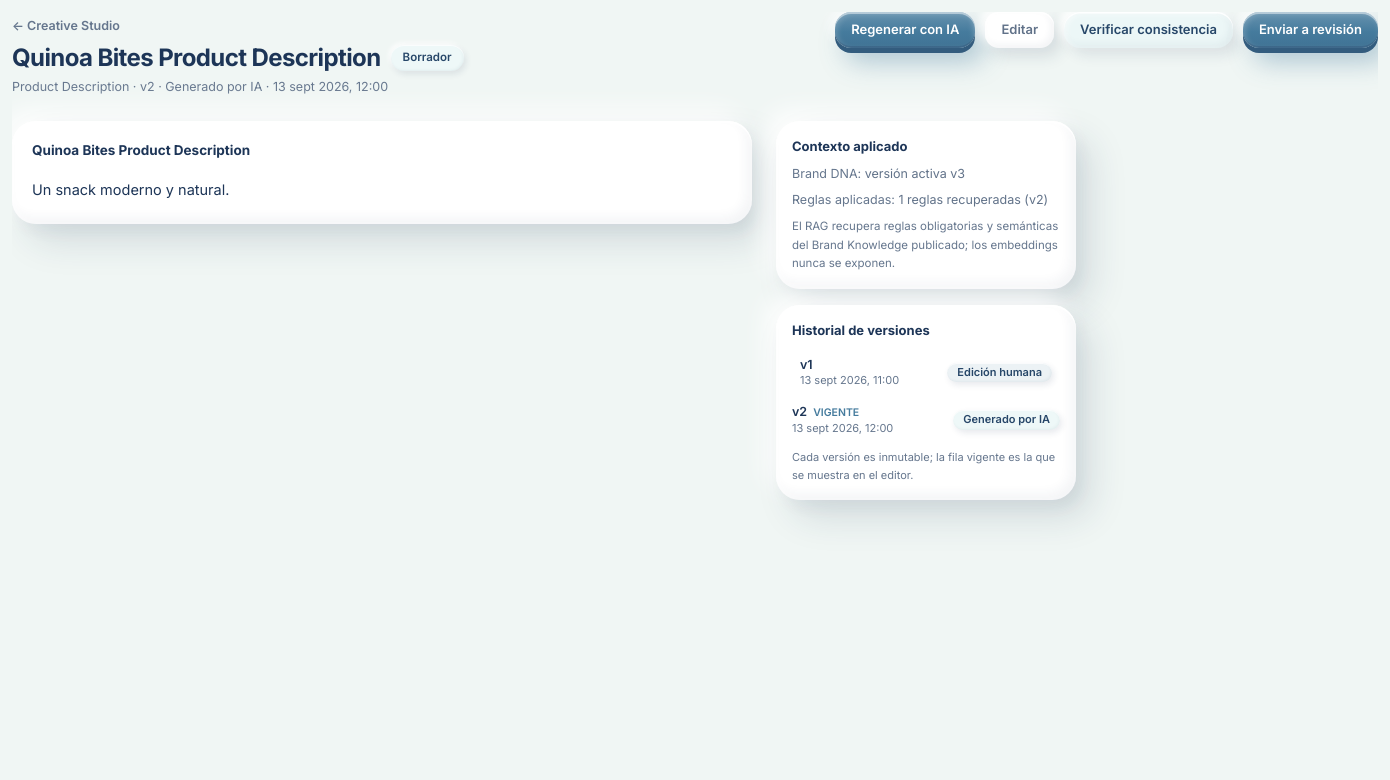
Test: CreativeItemPage (estados de error por envelope) › presenta el 503 KNOWLEDGE_NOT_AVAILABLE como estado claro, sin CTA inventada
This screenshot has width=1390, height=780.
Check: the text "Un snack moderno y natural." is shown, box x1=32 y1=181 x2=229 y2=198
Check: the text "Edición humana" is shown, box x1=947 y1=362 x2=1052 y2=382
Click the button "Regenerar con IA". click: (905,30)
box: x1=835 y1=12 x2=975 y2=48
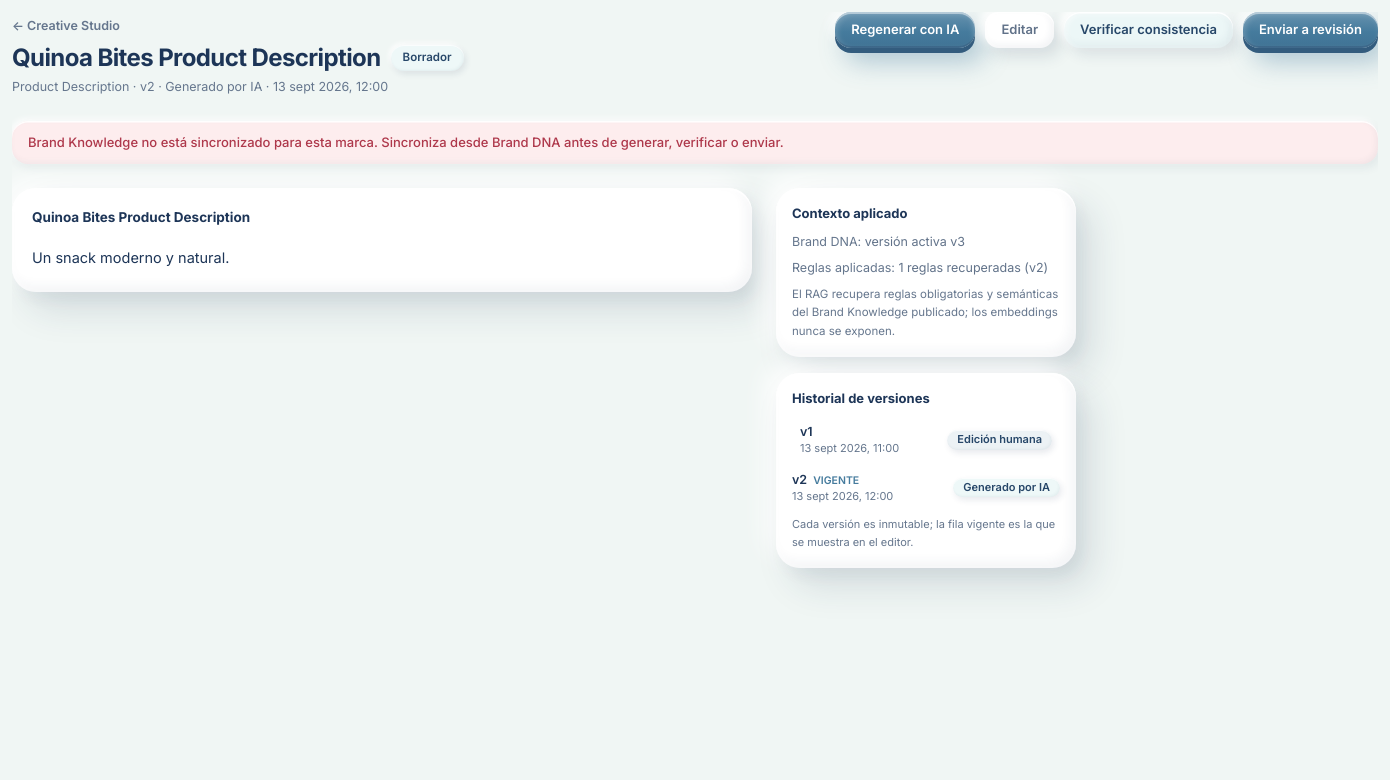
Check: the text "Brand Knowledge no está sincronizado para esta marca" is shown, box x1=28 y1=134 x2=784 y2=150
